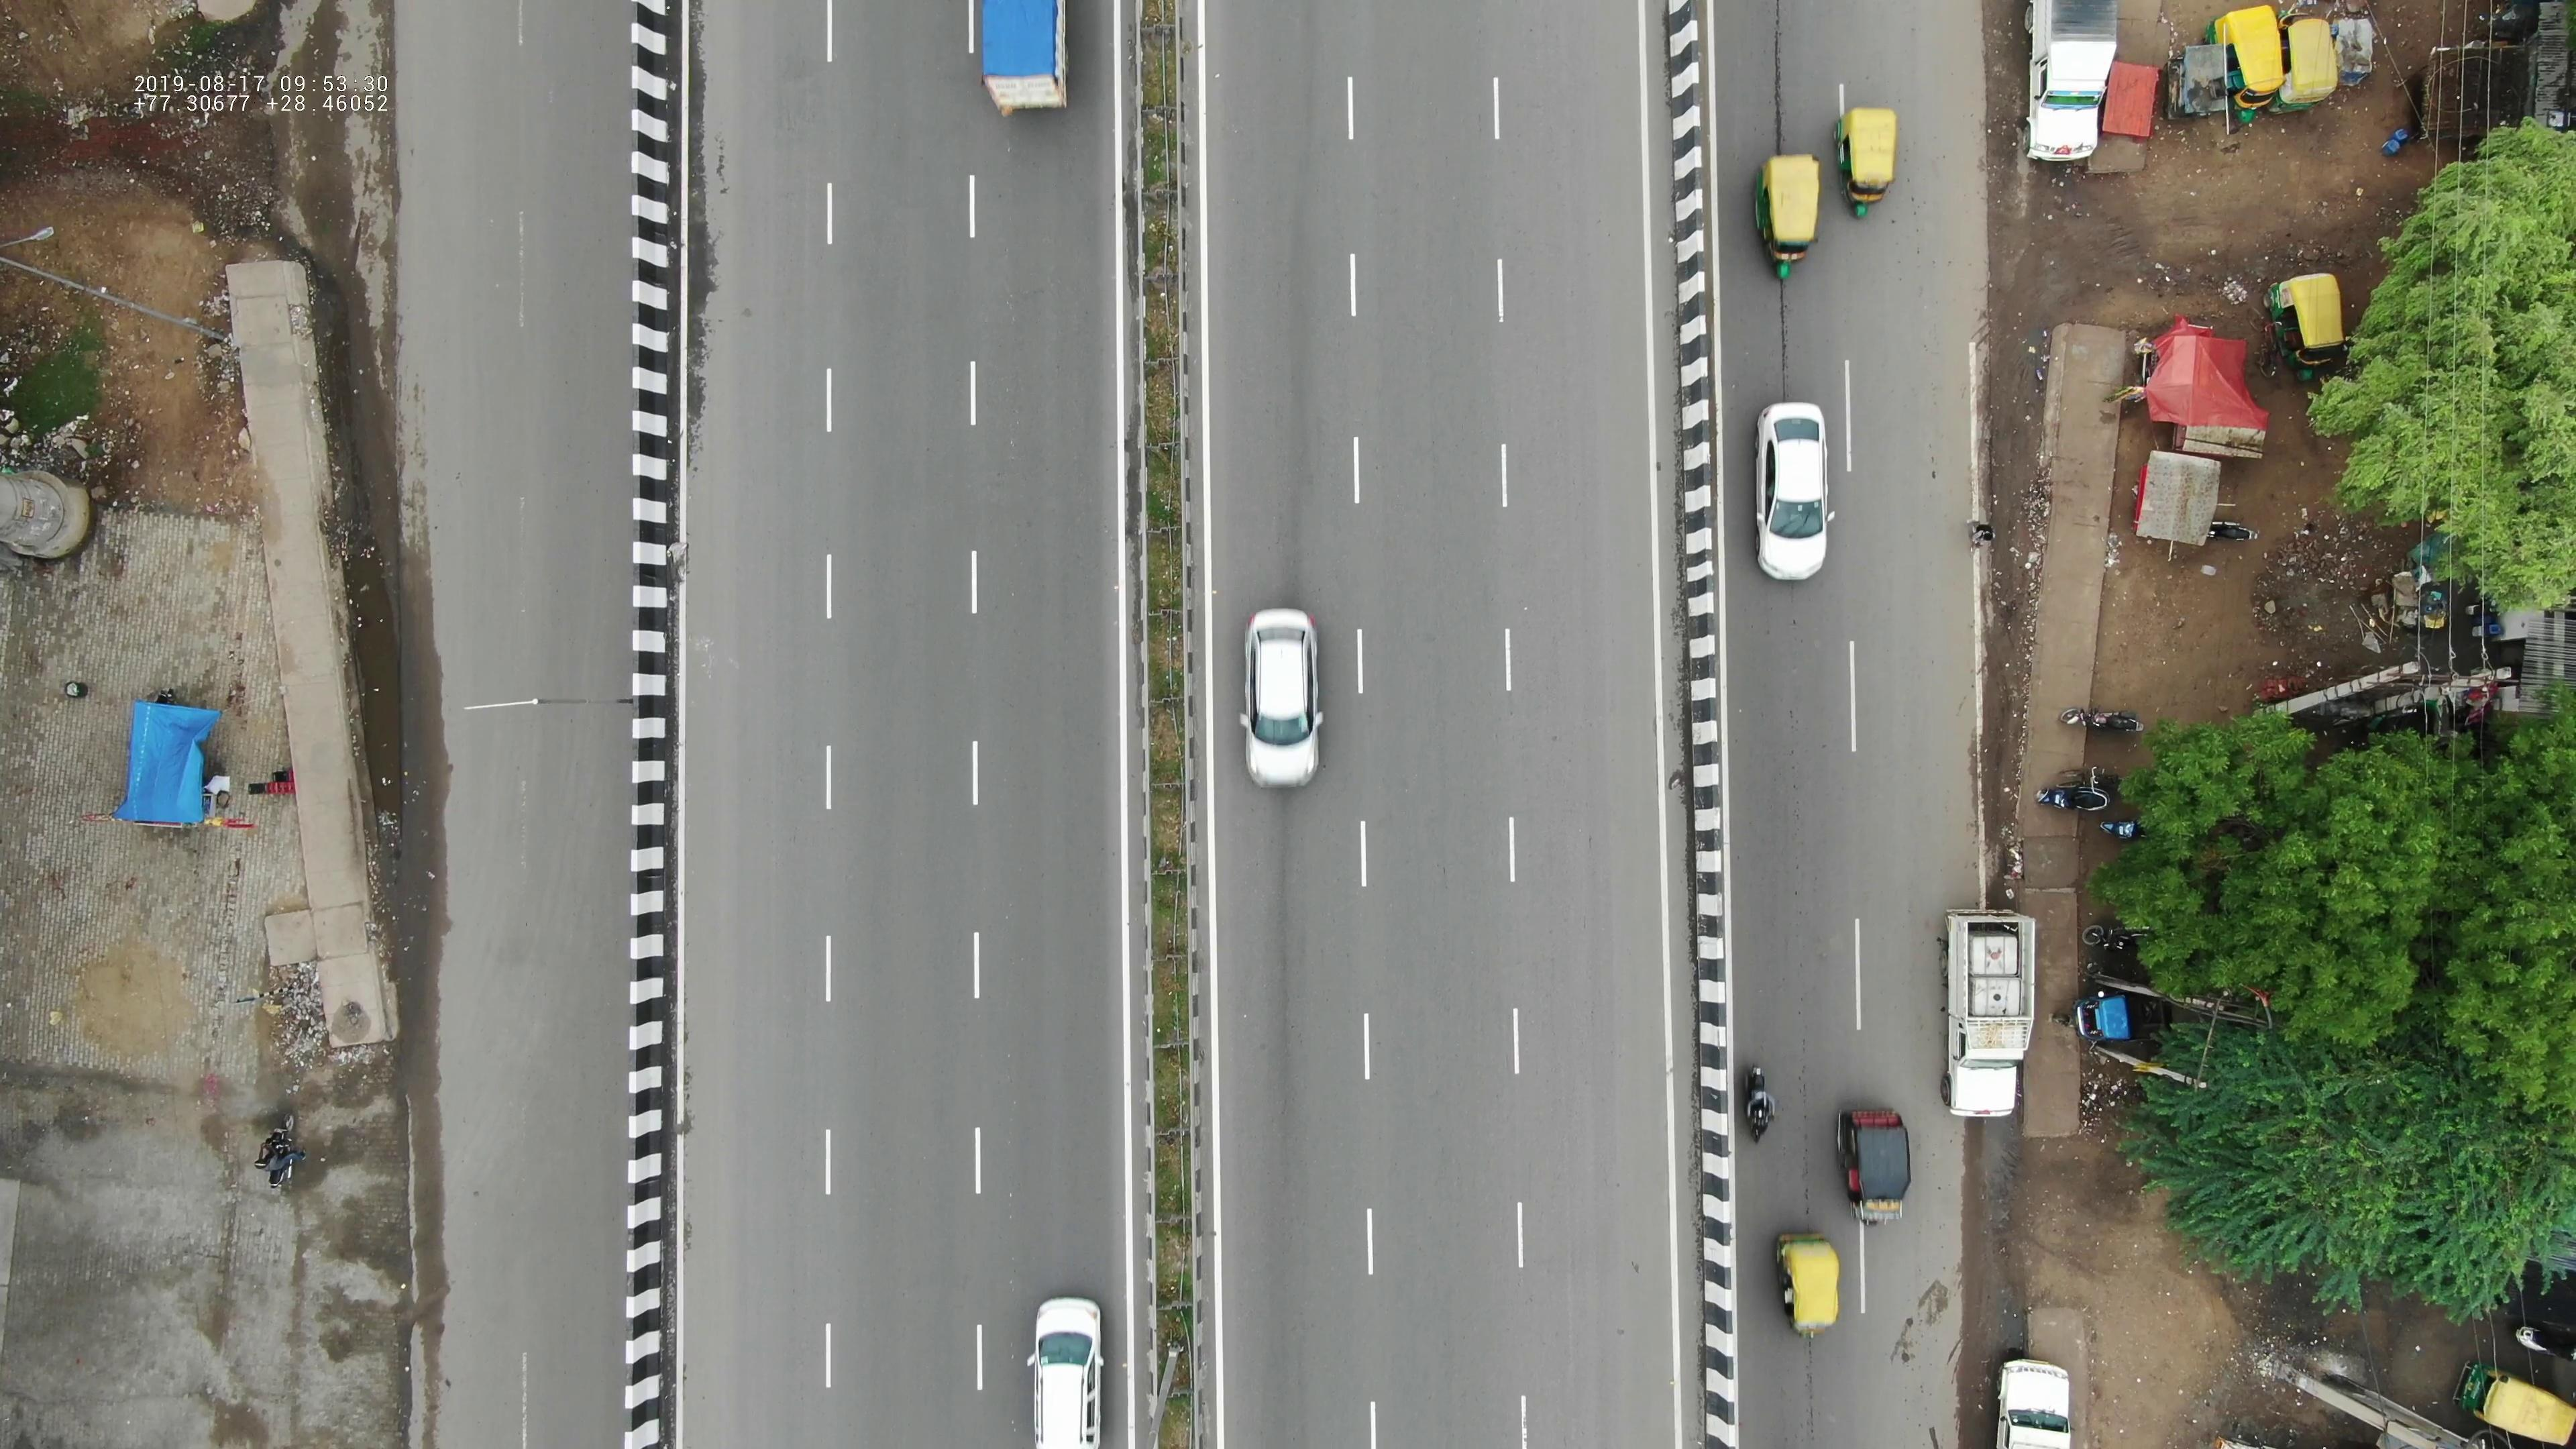Muddy_road: (1974, 561, 2047, 817), (1971, 336, 2051, 566)
Waterlogging: (340, 541, 432, 858)
